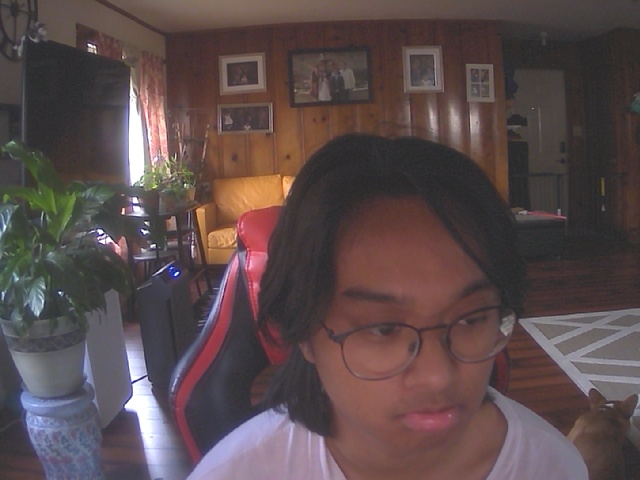sad: (287, 153, 526, 462)
